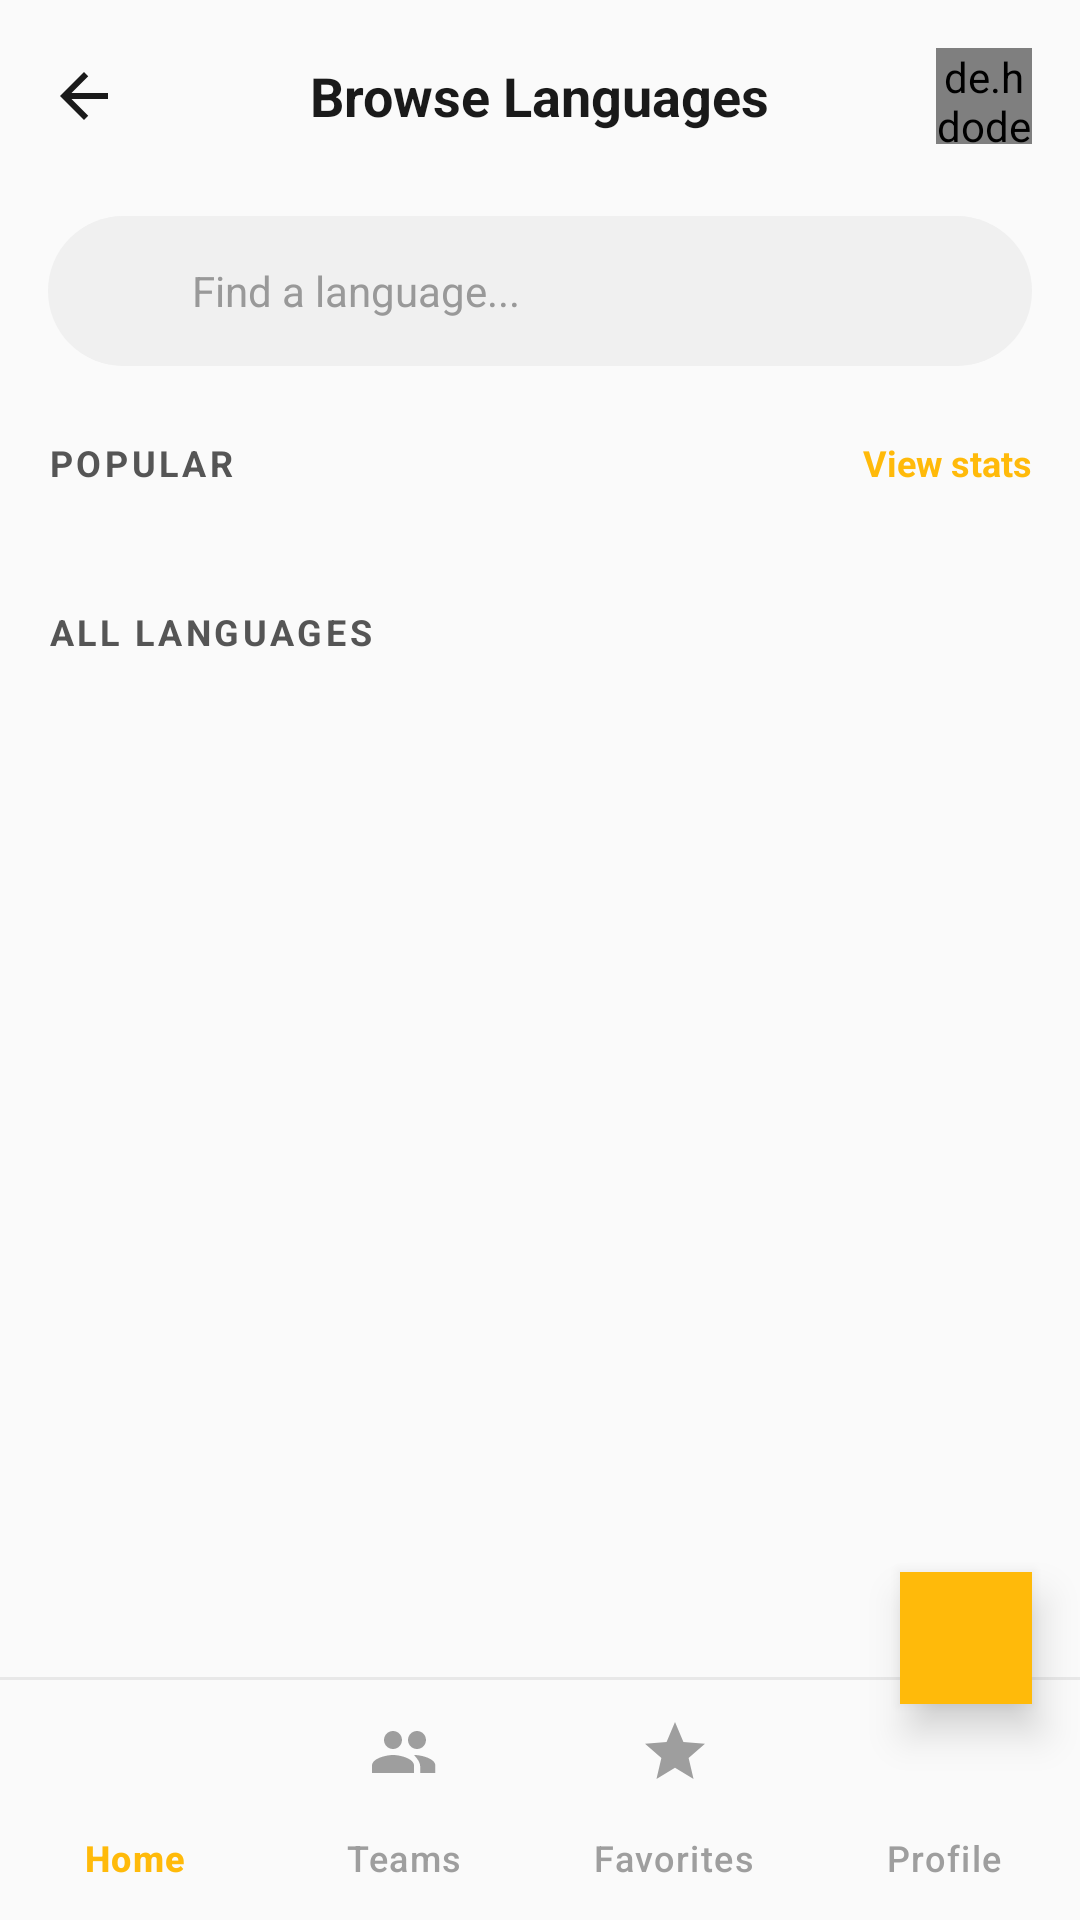

Screen size 1080 x 1920. Icon name, then its center in pixels as [x,y]:
arrow back: [84,96]
